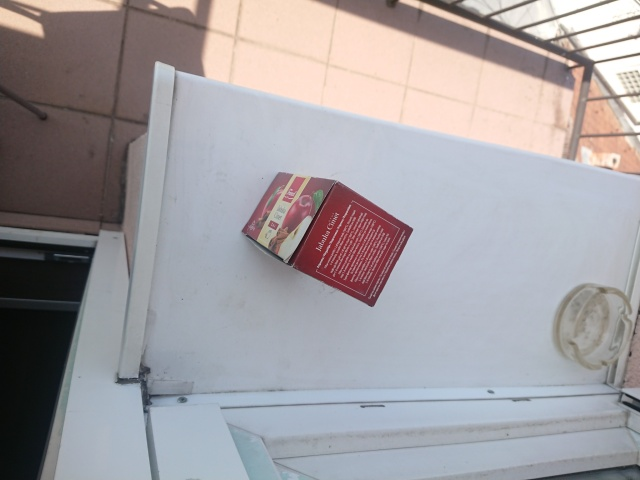Franck Apple Cinnamon Tea 60g: (239, 169, 415, 308)
